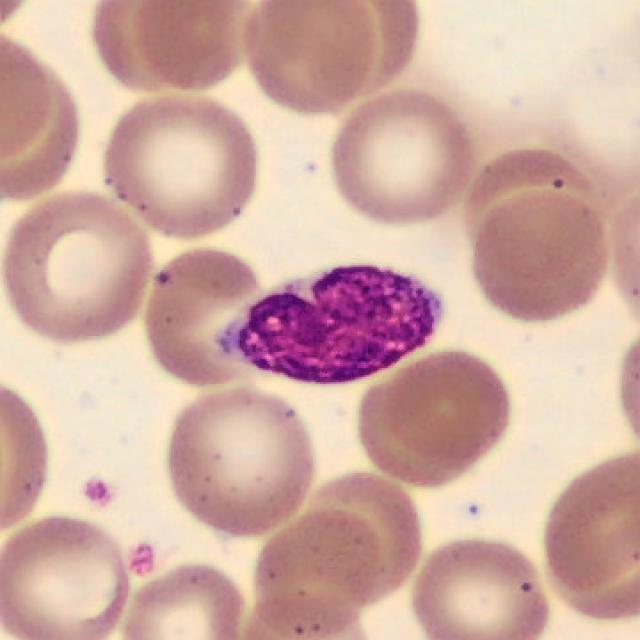Linfocito: (219, 267, 437, 380)
